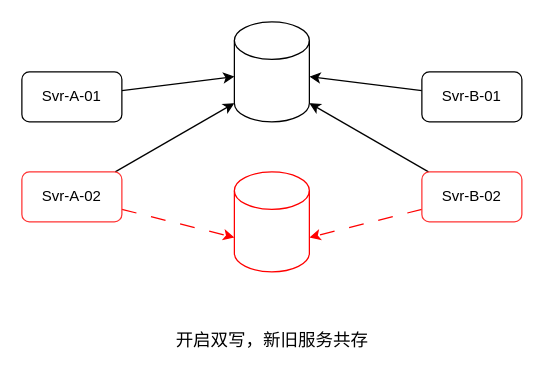
Image size: 544x381. Some labels were removed from this diagram. The centre of each missing label's shape, as x and y in pixels:
redis-01: the point at 271,71
redis-02: the point at 271,221
